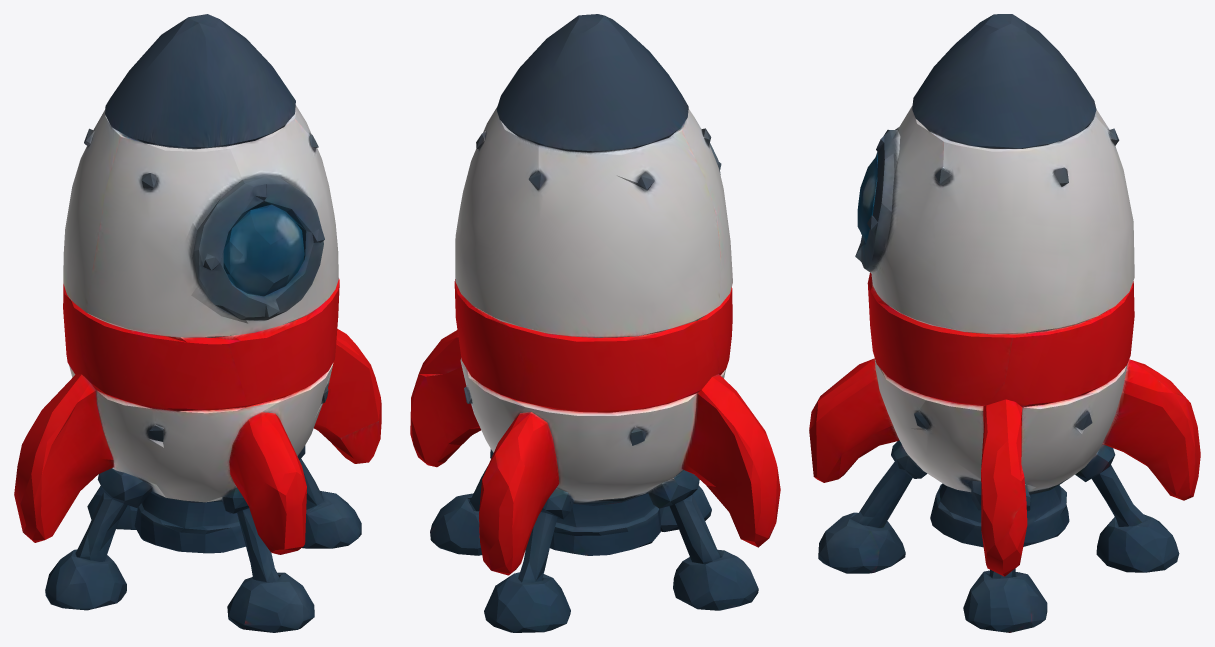
File: rocket.glb
3 renders of one model, left to right at view 1: azimuth 30°, elevation 25°; view 2: azimuth 150°, elevation 25°; view 3: azimuth 270°, elevation 25°, orthographic.
Visible parts, largest first — view 1: model; view 2: model; view 3: model.
Part boxes in pixels (x1=…): model: x1=14, y1=14, x2=381, y2=632; model: x1=410, y1=14, x2=780, y2=632; model: x1=809, y1=14, x2=1200, y2=632.
Bounding box in the file's own units: 1.3 × 1.9 × 1.24.
1 material, 1 textured.
